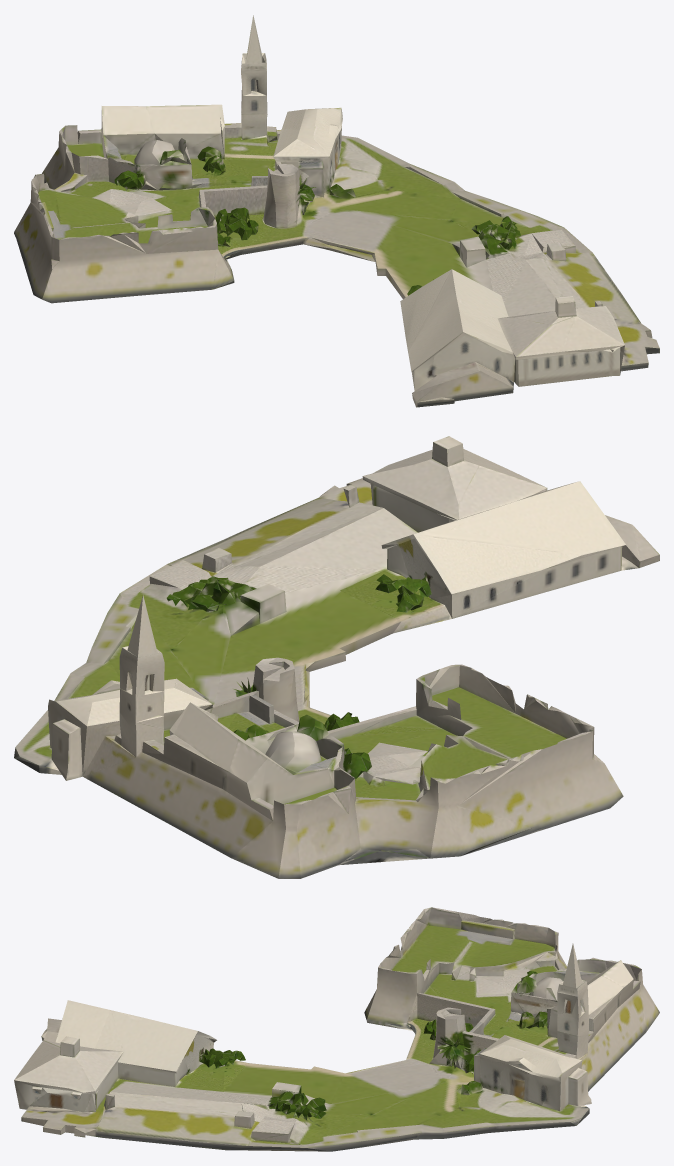
The model's file is bermuda-hilltop-landmark.glb.
The picture shows the model from 3 angles, top to bottom: view 1: azimuth 30°, elevation 25°; view 2: azimuth 150°, elevation 25°; view 3: azimuth 270°, elevation 25°; orthographic projection. The views are drawn at different scales.
Parts seen in each view (by area): view 1: output_unwrapped; view 2: output_unwrapped; view 3: output_unwrapped.
Boxes of the visible parts, <box> form: output_unwrapped: <box>14,15,659,407</box>; output_unwrapped: <box>14,436,659,878</box>; output_unwrapped: <box>14,907,659,1151</box>.
Bounding box in the file's own units: 1.43 × 0.4551 × 1.92.
Materials: 1 (1 with a texture image).
